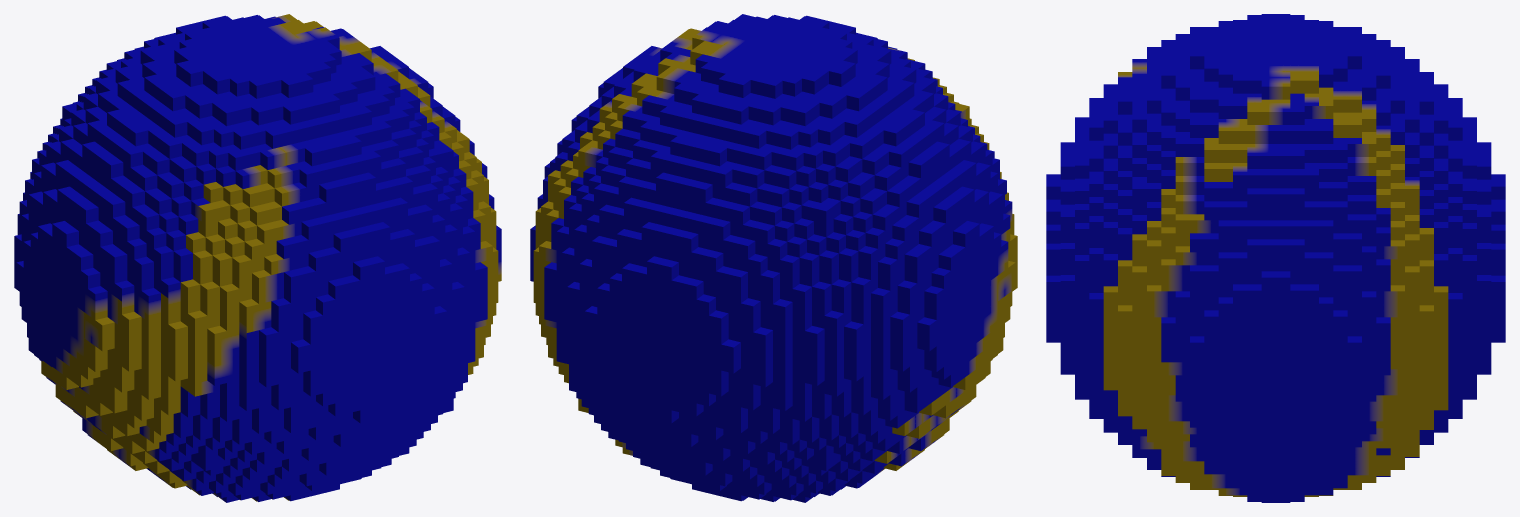
Rendered from Bolt.fbx.
3 views of the same model, side by side, from view 1: azimuth 30°, elevation 25°; view 2: azimuth 150°, elevation 25°; view 3: azimuth 270°, elevation 25° (orthographic).
Visible parts, largest first — view 1: Matrix; view 2: Matrix; view 3: Matrix.
Boxes of the visible parts, bbox=[...] form: Matrix: bbox=[14, 14, 501, 502]; Matrix: bbox=[530, 14, 1017, 502]; Matrix: bbox=[1046, 14, 1505, 502].
Size of the model in its own units: 32 by 32 by 32.
Materials: 1 (1 with a texture image).
